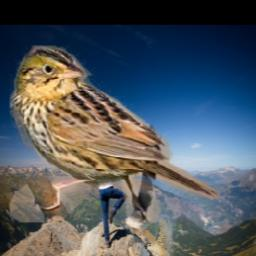Sparrow: (10, 46, 220, 223), (136, 214, 178, 256)
